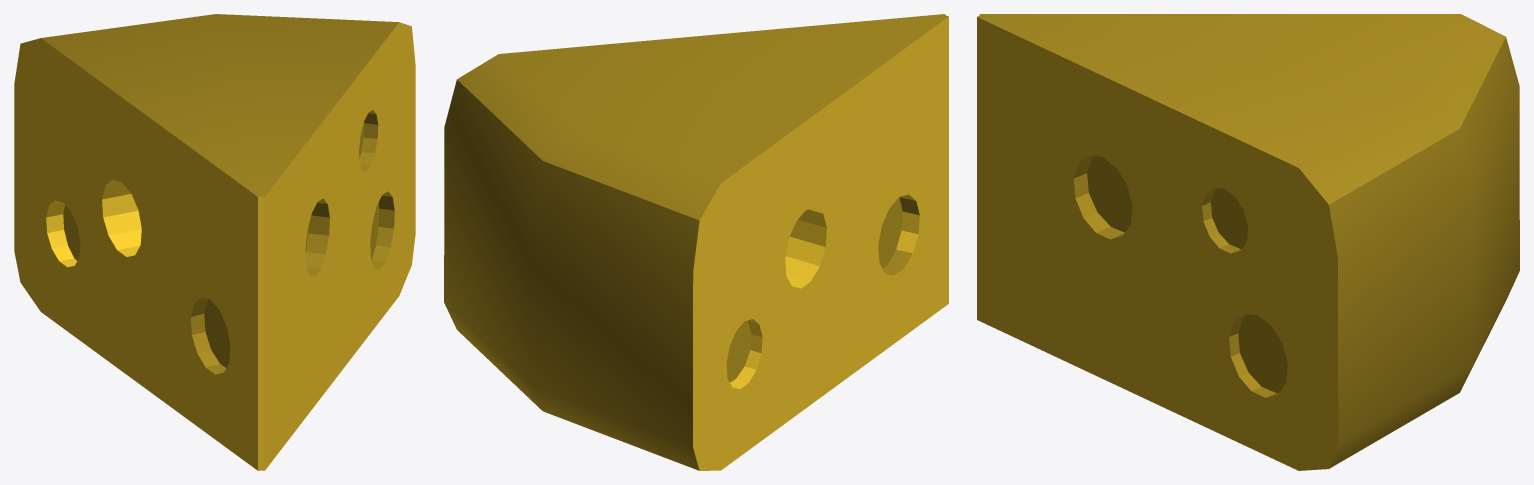
File: cheese.glb
3 views of the same model, side by side, from view 1: azimuth 30°, elevation 25°; view 2: azimuth 150°, elevation 25°; view 3: azimuth 270°, elevation 25° (orthographic). The views are drawn at different scales.
Visible parts, largest first — view 1: Cylinder; view 2: Cylinder; view 3: Cylinder.
Boxes of the visible parts, x1,y1,x2,y2 form: Cylinder: (14, 14, 415, 470); Cylinder: (444, 14, 948, 470); Cylinder: (977, 14, 1519, 470).
Size of the model in its own units: 0.201 by 0.1647 by 0.2674.
Materials: 1 (1 with a texture image).
